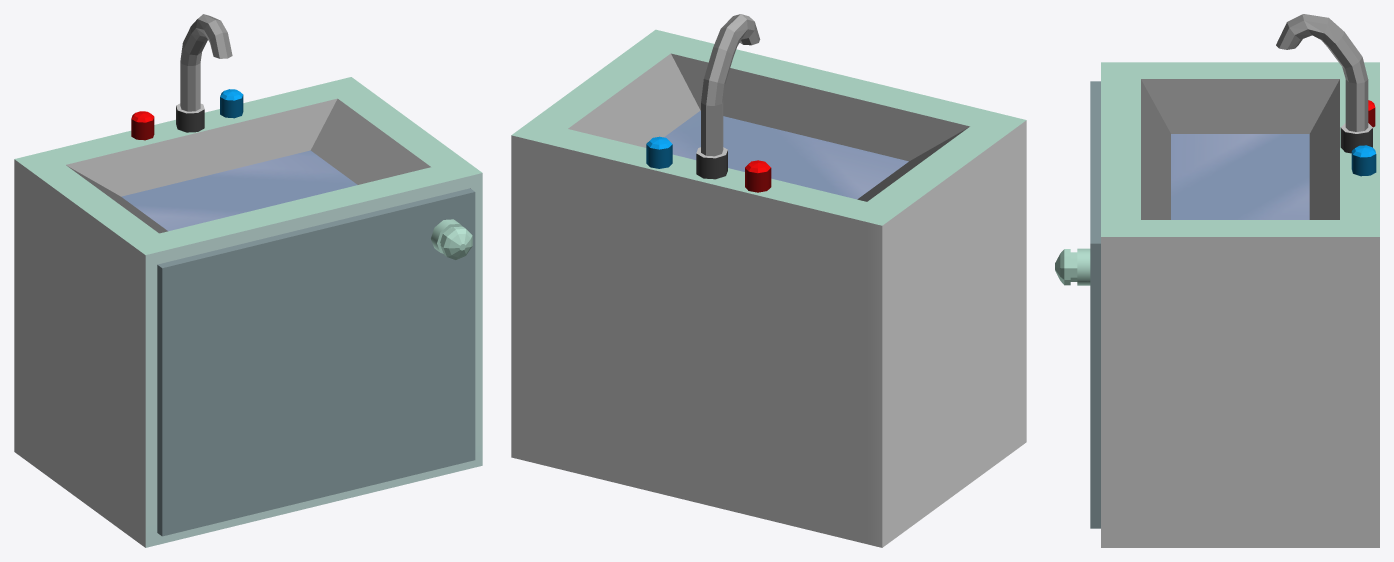
The model's file is Cabinet_Green_Lower_Sink.fbx.
3 views of the same model, side by side, from view 1: azimuth 30°, elevation 25°; view 2: azimuth 150°, elevation 25°; view 3: azimuth 270°, elevation 25° (orthographic). The views are drawn at different scales.
Parts seen in each view (by area): view 1: Cabinet_Green_Lower_Sink, Cabinet_Green_Lower_Sink.001; view 2: Cabinet_Green_Lower_Sink; view 3: Cabinet_Green_Lower_Sink, Cabinet_Green_Lower_Sink.001.
Part boxes in pixels (box(x1,y1,x2,y2)): Cabinet_Green_Lower_Sink: box(14, 14, 482, 547); Cabinet_Green_Lower_Sink.001: box(157, 188, 475, 536); Cabinet_Green_Lower_Sink: box(511, 14, 1026, 547); Cabinet_Green_Lower_Sink: box(1101, 14, 1379, 547); Cabinet_Green_Lower_Sink.001: box(1055, 81, 1100, 528).
Size of the model in its own units: 100 by 119 by 78.52.
